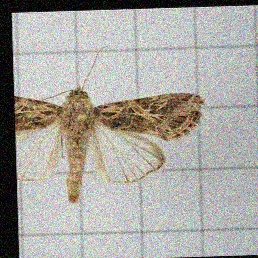Spodoptera litura: (15, 44, 205, 203)
